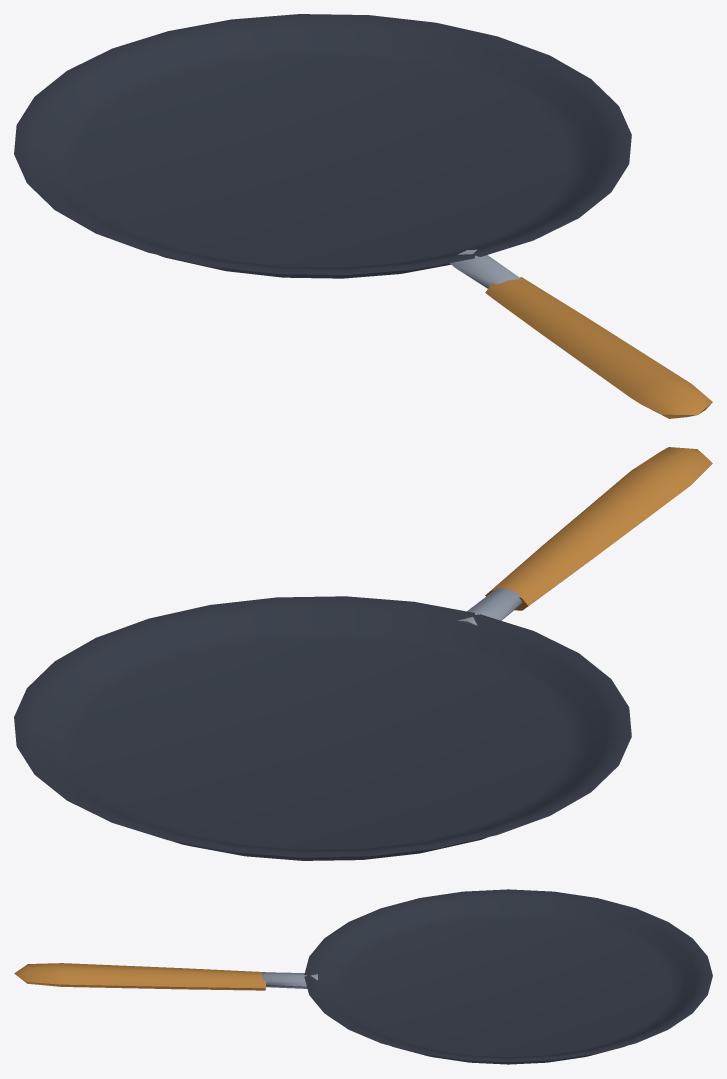
The model's file is FryingPan.fbx.
The picture shows the model from 3 angles, top to bottom: view 1: azimuth 30°, elevation 25°; view 2: azimuth 150°, elevation 25°; view 3: azimuth 270°, elevation 25°; orthographic projection. The views are drawn at different scales.
Parts seen in each view (by area): view 1: FryingPan; view 2: FryingPan; view 3: FryingPan.
Boxes of the visible parts, box(x1,y1,x2,y2) form: FryingPan: box(14, 14, 712, 418); FryingPan: box(14, 447, 712, 860); FryingPan: box(14, 889, 712, 1064).
Bounding box in the file's own units: 0.3 × 0.02 × 0.5128.
